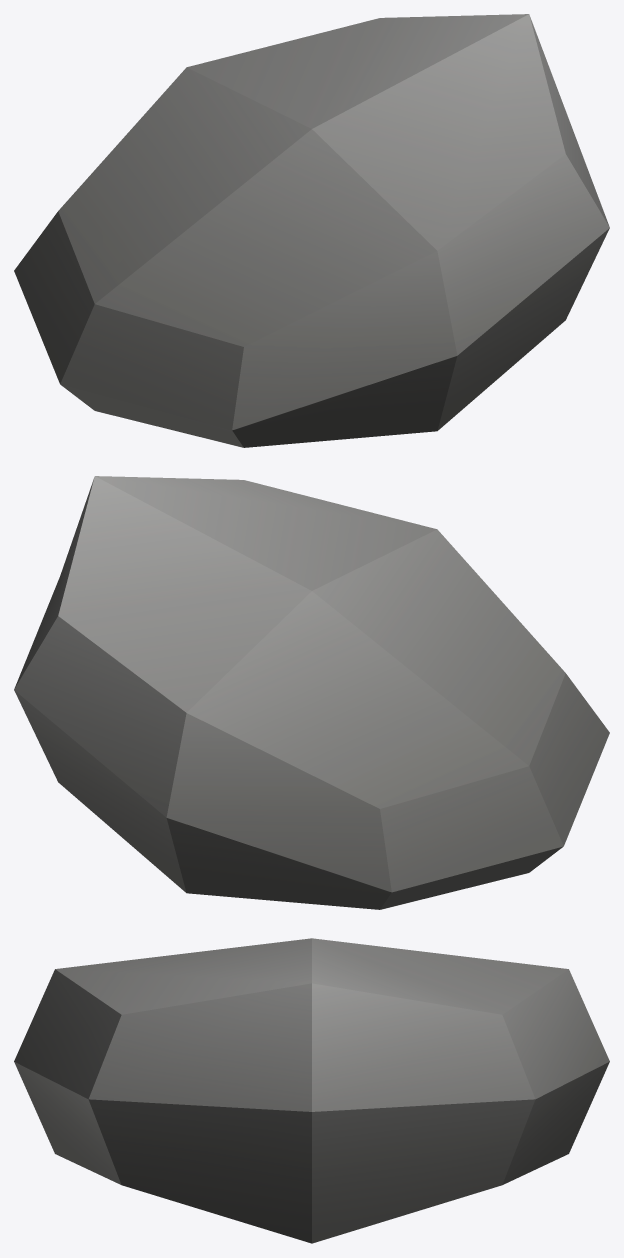
File: Rock_02.fbx
3 renders of one model, top to bottom at view 1: azimuth 30°, elevation 25°; view 2: azimuth 150°, elevation 25°; view 3: azimuth 270°, elevation 25°, orthographic. The views are drawn at different scales.
Visible parts, largest first — view 1: Rock_02; view 2: Rock_02; view 3: Rock_02.
Boxes of the visible parts, x1,y1,x2,y2 form: Rock_02: (14, 14, 609, 447); Rock_02: (14, 476, 609, 909); Rock_02: (14, 938, 609, 1243).
Size of the model in its own units: 3414 by 1959 by 3414.
